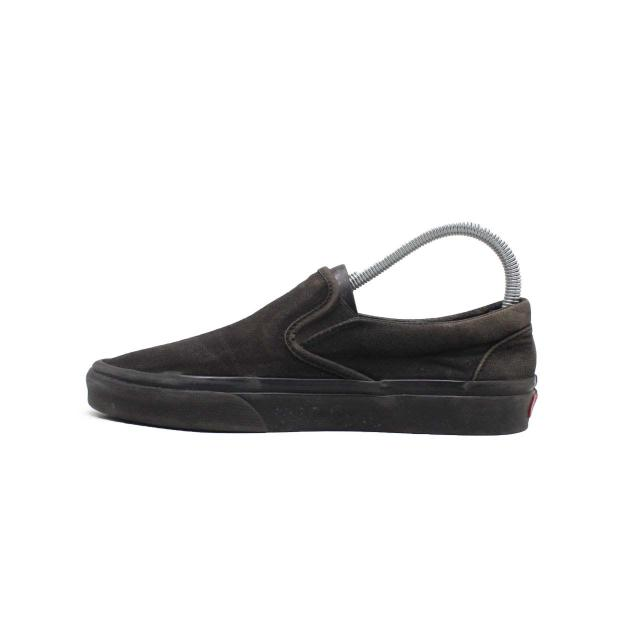heel: (471, 302, 534, 383)
midsole: (84, 359, 538, 436)
uppersole: (101, 269, 475, 384)
